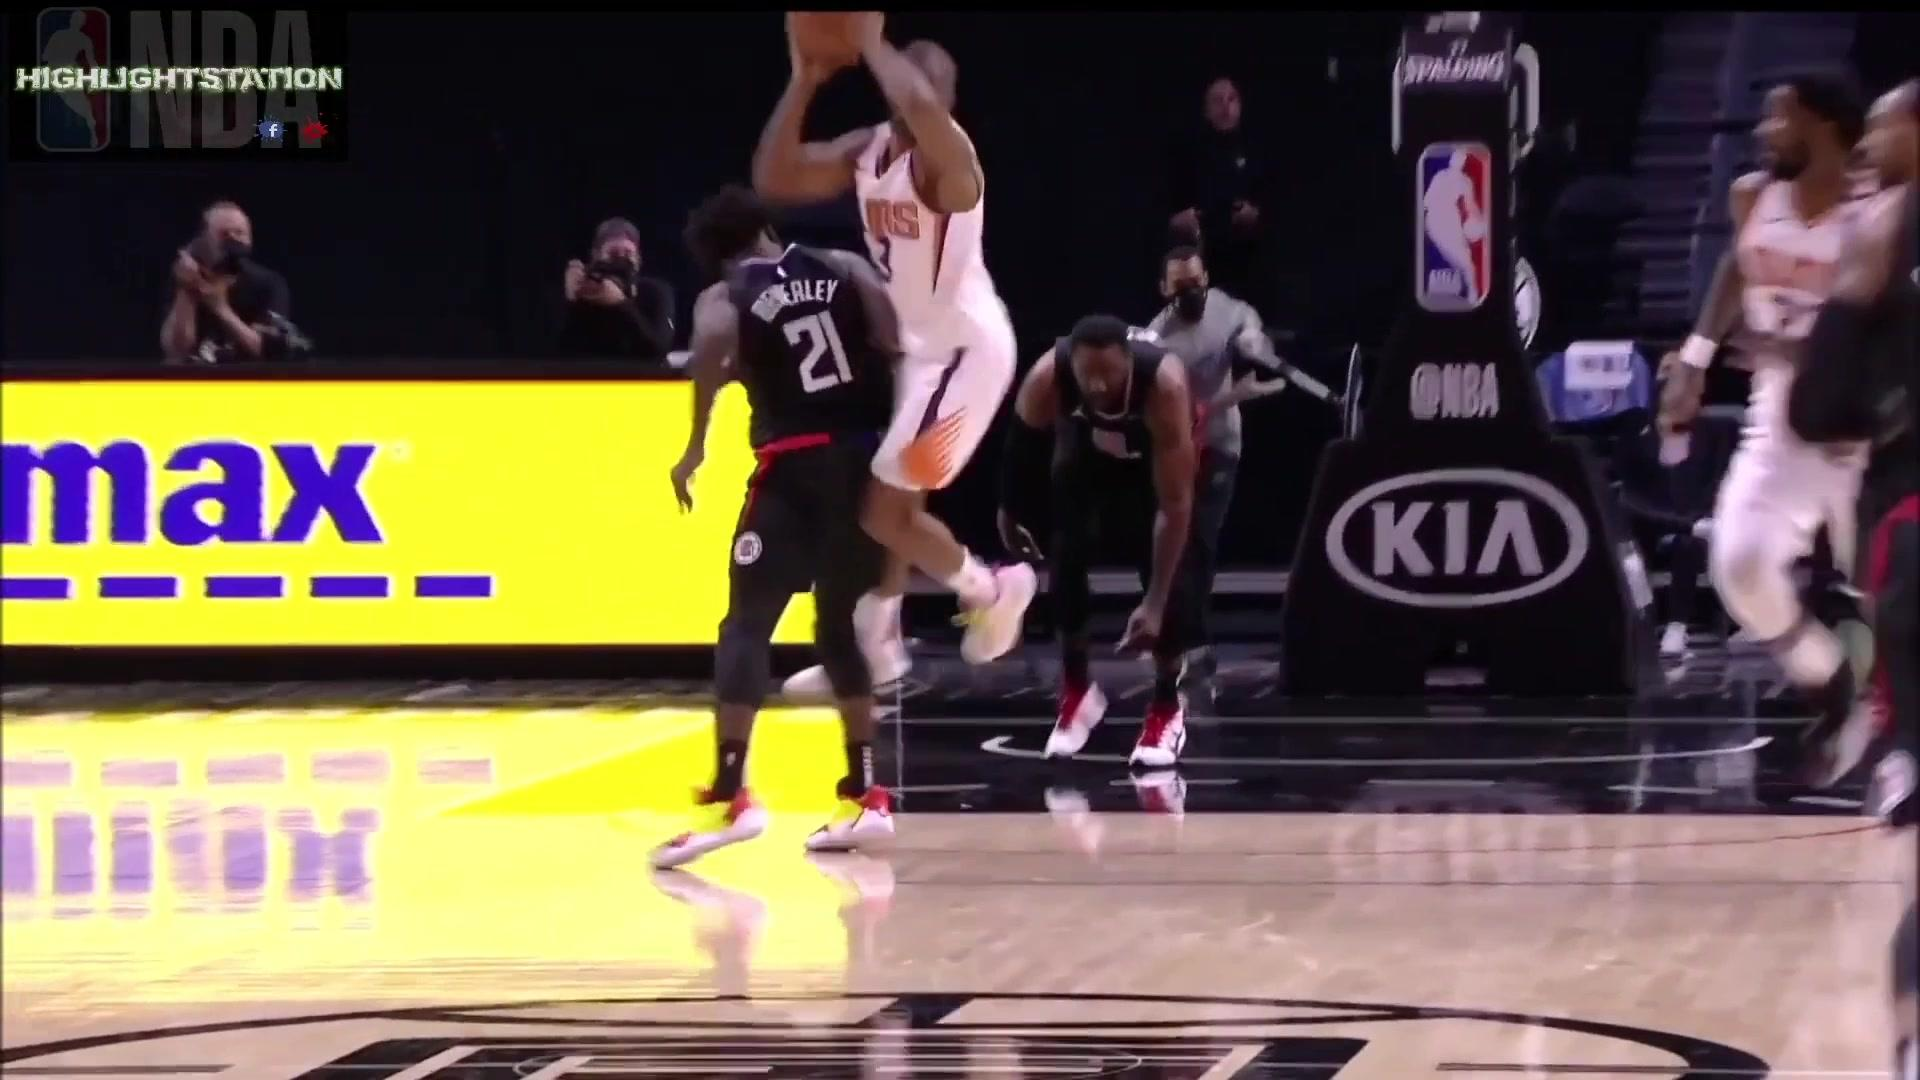foul: (645, 44, 1058, 868)
